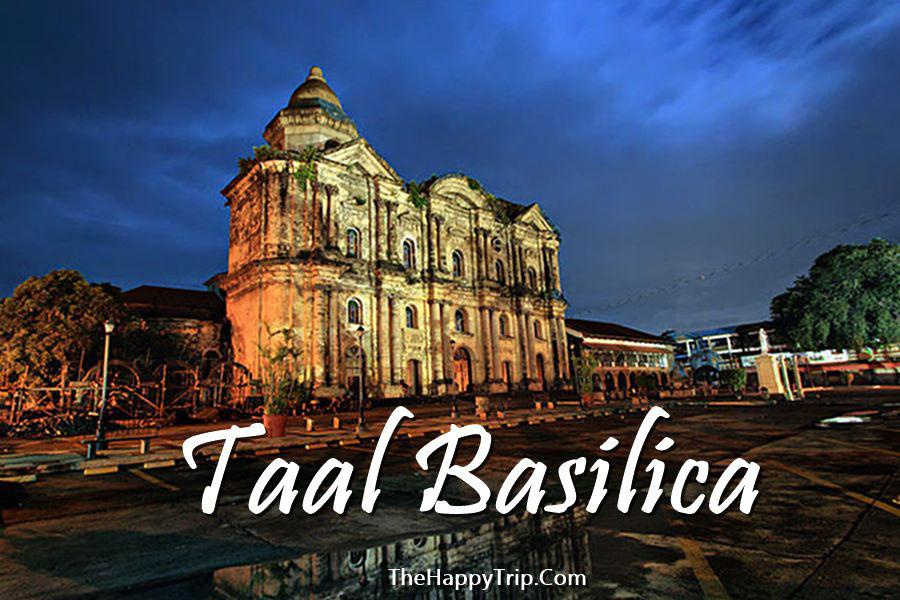taal_basilica_church_taal_batangas: (214, 59, 573, 412)
